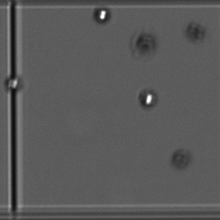Dead Cell: (170, 145, 193, 172), (189, 20, 206, 43), (136, 32, 155, 50)
Living Cell: (87, 6, 118, 30), (138, 84, 160, 112), (3, 74, 30, 95)
